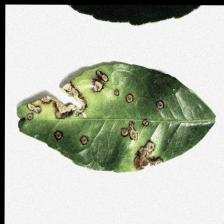canker: (21, 69, 180, 172)
